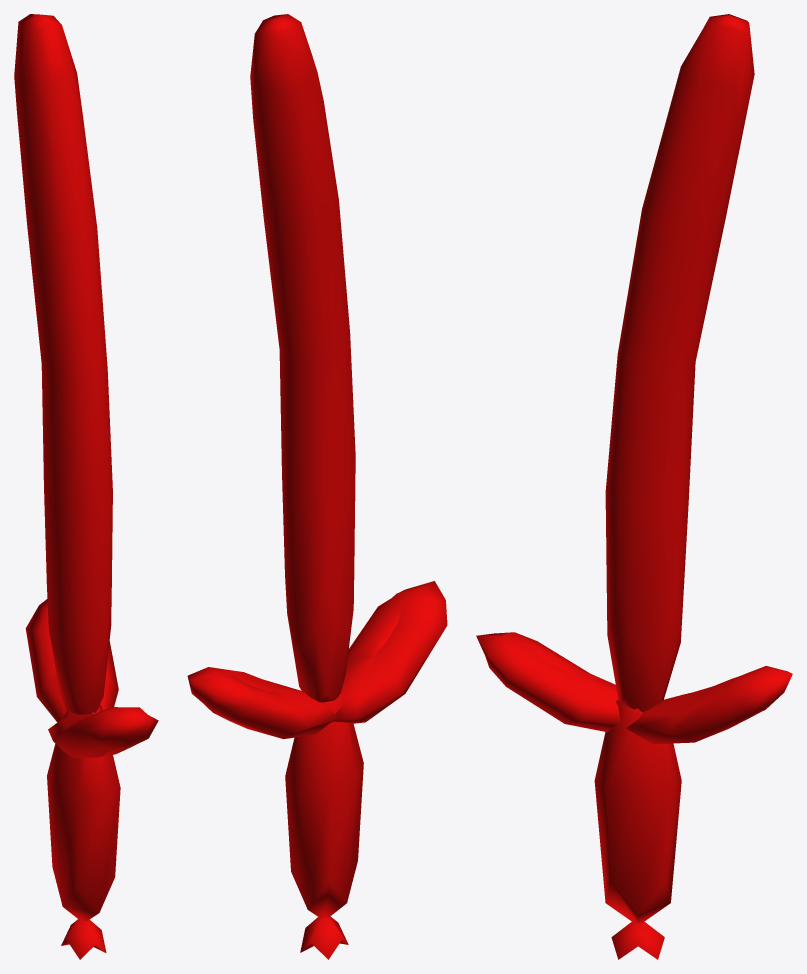
Rendered from Asset_BalloonSword_01.glb.
3 renders of one model, left to right at view 1: azimuth 30°, elevation 25°; view 2: azimuth 150°, elevation 25°; view 3: azimuth 270°, elevation 25°, orthographic. The views are drawn at different scales.
Parts seen in each view (by area): view 1: Asset_BalloonSword_01; view 2: Asset_BalloonSword_01; view 3: Asset_BalloonSword_01.
Boxes of the visible parts, x1,y1,x2,y2 form: Asset_BalloonSword_01: (14, 14, 158, 959); Asset_BalloonSword_01: (187, 14, 447, 959); Asset_BalloonSword_01: (476, 14, 792, 959).
Size of the model in its own units: 0.0986 by 0.6563 by 0.2012.
